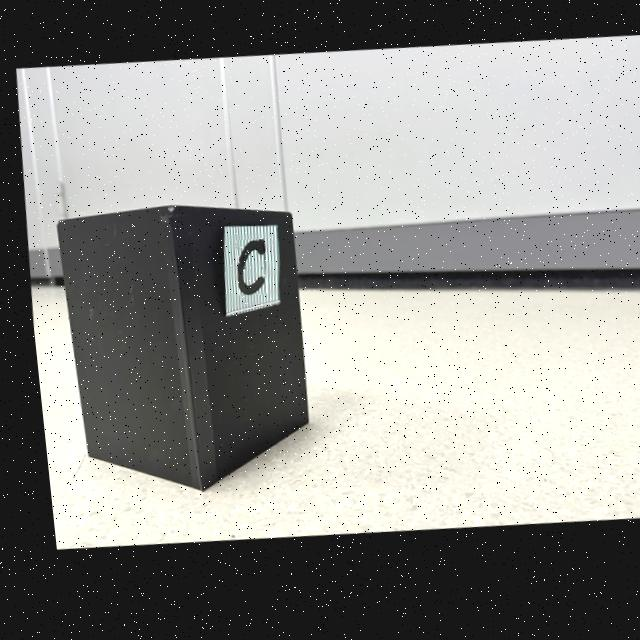C: (231, 243, 258, 298)
